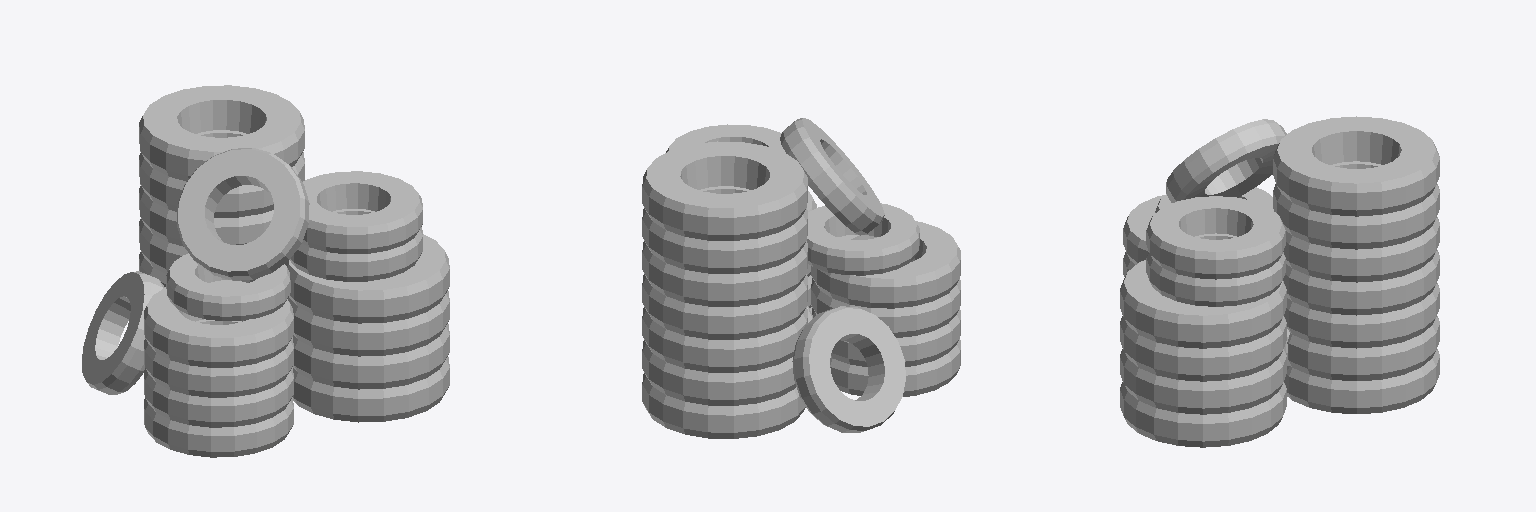
The model's file is reifentower.obj.
3 renders of one model, left to right at view 1: azimuth 30°, elevation 25°; view 2: azimuth 150°, elevation 25°; view 3: azimuth 270°, elevation 25°, orthographic.
Visible parts, largest first — view 1: reifen_tower_reifen defends og; view 2: reifen_tower_reifen defends og; view 3: reifen_tower_reifen defends og.
Boxes of the visible parts, x1,y1,x2,y2 form: reifen_tower_reifen defends og: [82, 85, 449, 457]; reifen_tower_reifen defends og: [642, 118, 960, 438]; reifen_tower_reifen defends og: [1120, 116, 1439, 447].
Size of the model in its own units: 0.635 by 0.5163 by 0.6082.